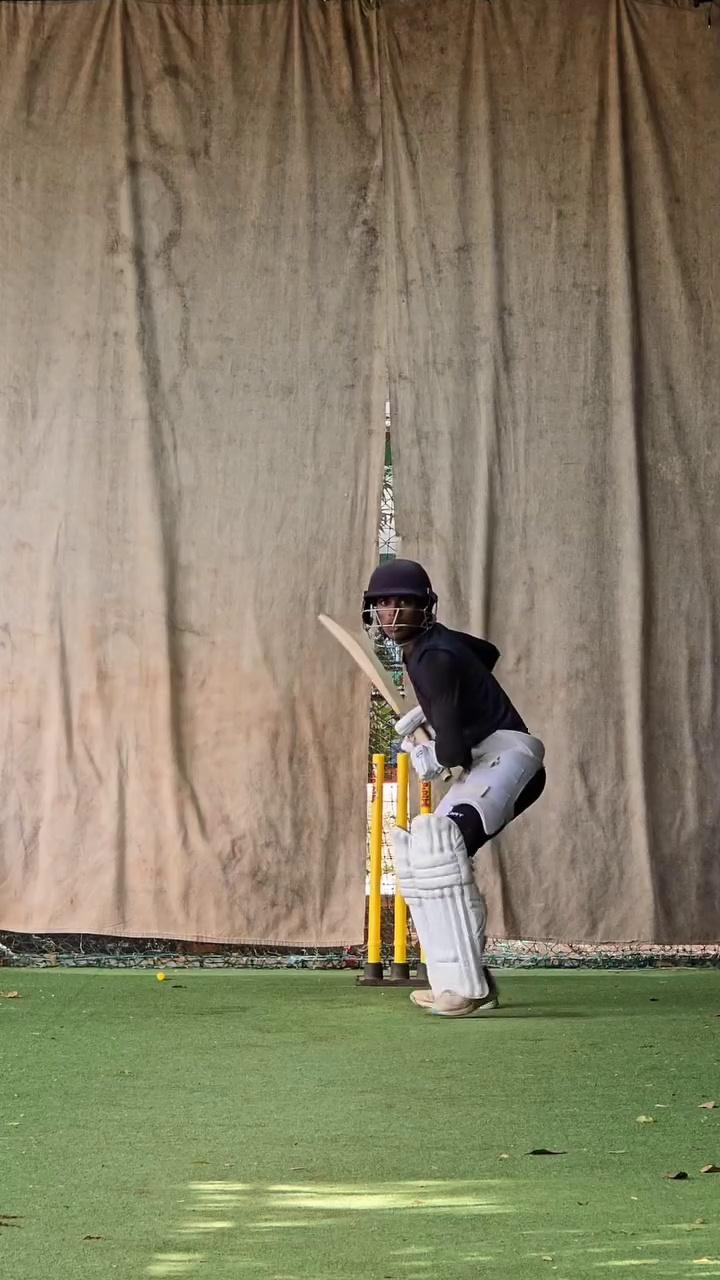bat: (316, 601, 409, 724)
